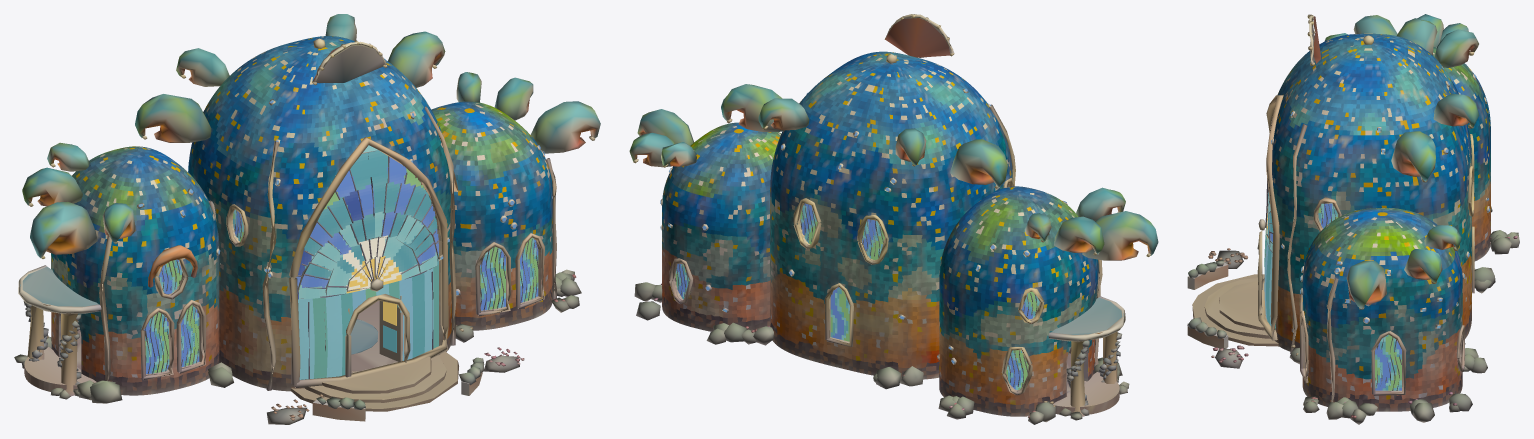
Rendered from ev_vitray.glb.
The picture shows the model from 3 angles, left to right: view 1: azimuth 30°, elevation 25°; view 2: azimuth 150°, elevation 25°; view 3: azimuth 270°, elevation 25°; orthographic projection. The views are drawn at different scales.
Parts seen in each view (by area): view 1: ev_vitray_LOD0; view 2: ev_vitray_LOD0; view 3: ev_vitray_LOD0.
Boxes of the visible parts, box(x1,y1,x2,y2) form: ev_vitray_LOD0: box(14, 14, 600, 424); ev_vitray_LOD0: box(629, 14, 1158, 424); ev_vitray_LOD0: box(1187, 14, 1519, 424).
Size of what is drawn, in the model's own units: 29.33 by 16.13 by 16.25.
